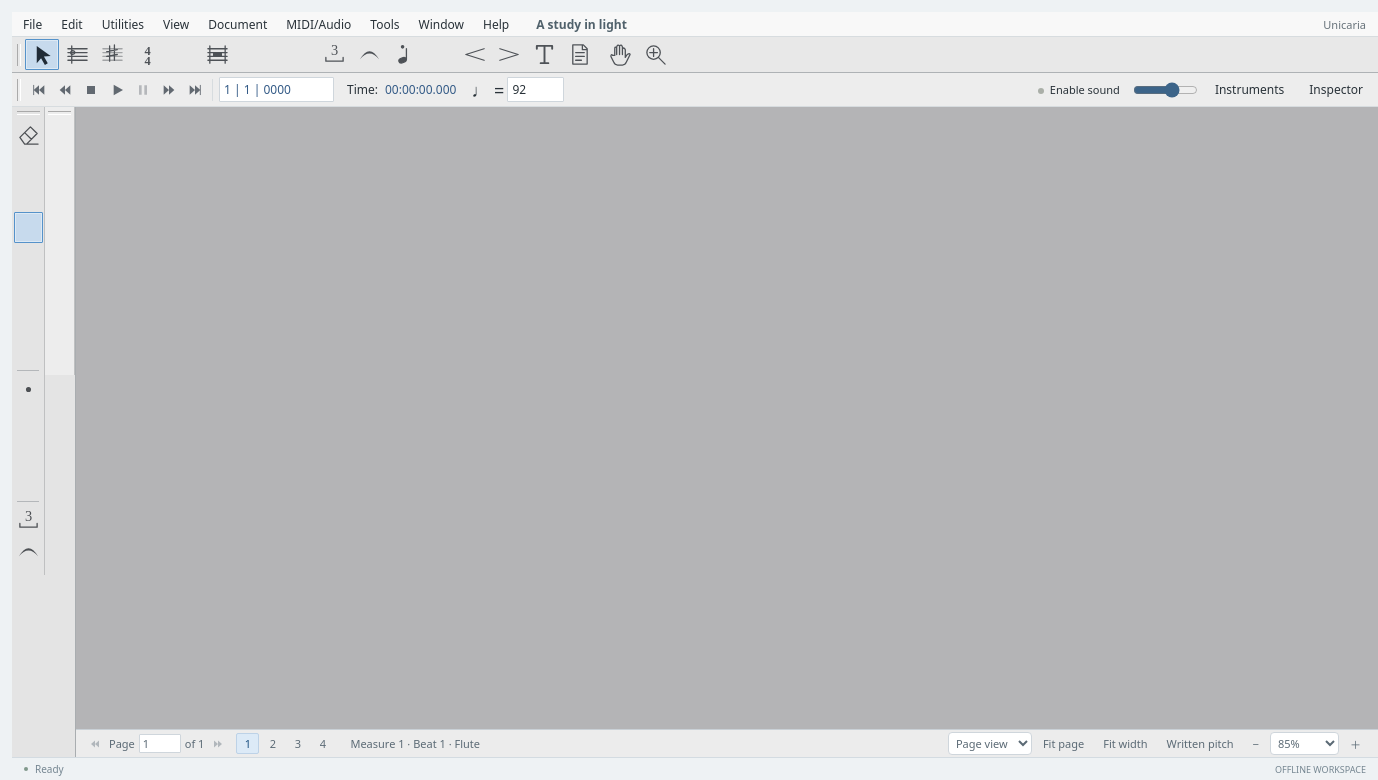
Test case: familiar score editing gestures › Speedy 0 exits and reopens the frame without adding a rest
This screenshot has width=1378, height=780.
Click the button named "Speedy Entry" at (293, 54), box [276,39,310,70]
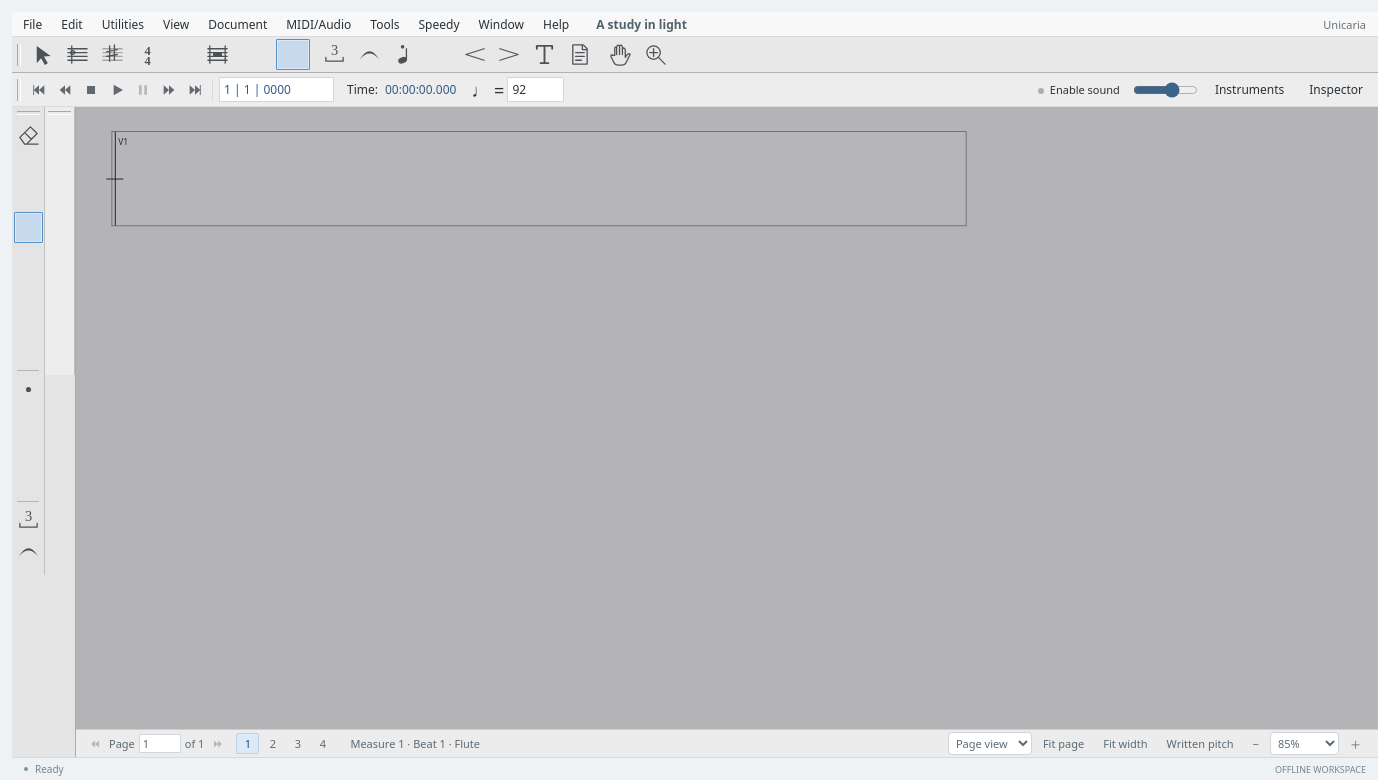
Press Digit0
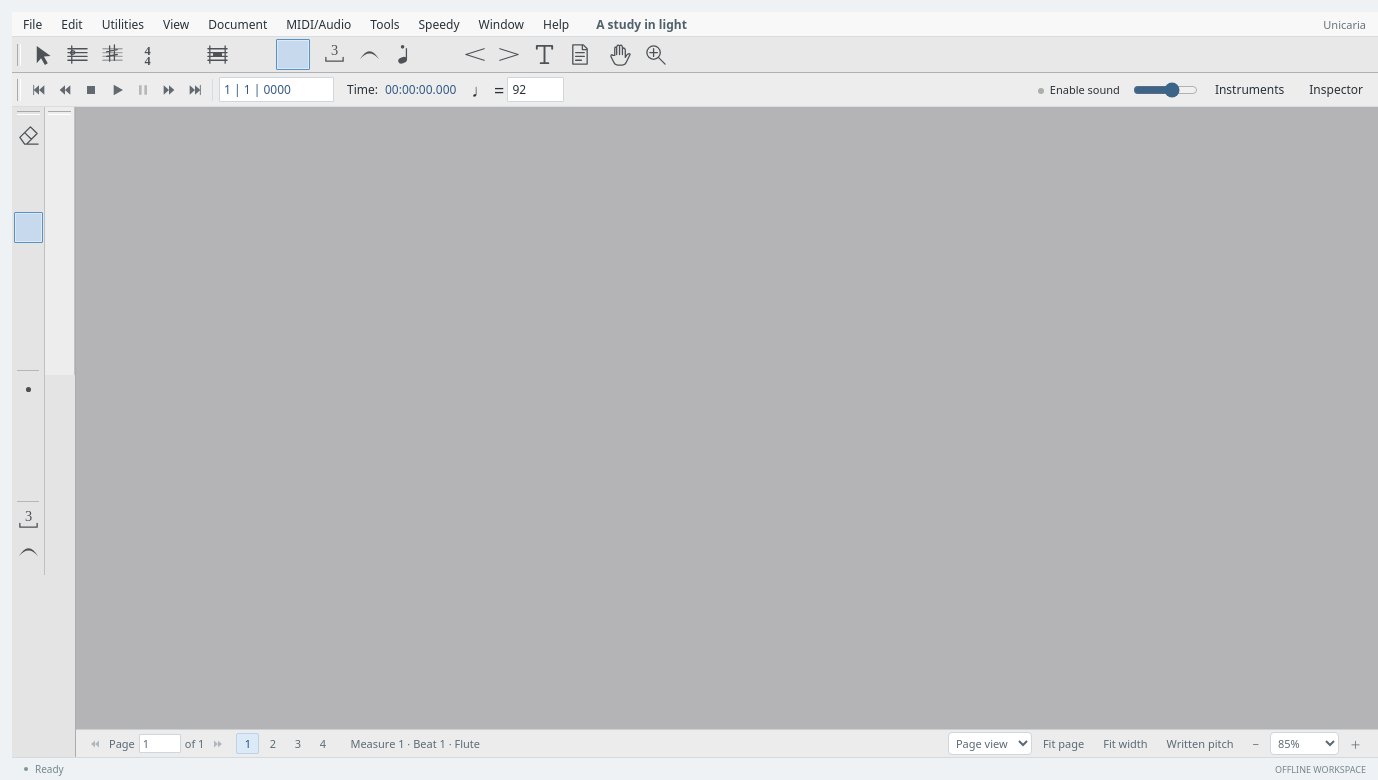
Result: the element with class "speedy-frame" is gone
Press Digit5
Press Digit0
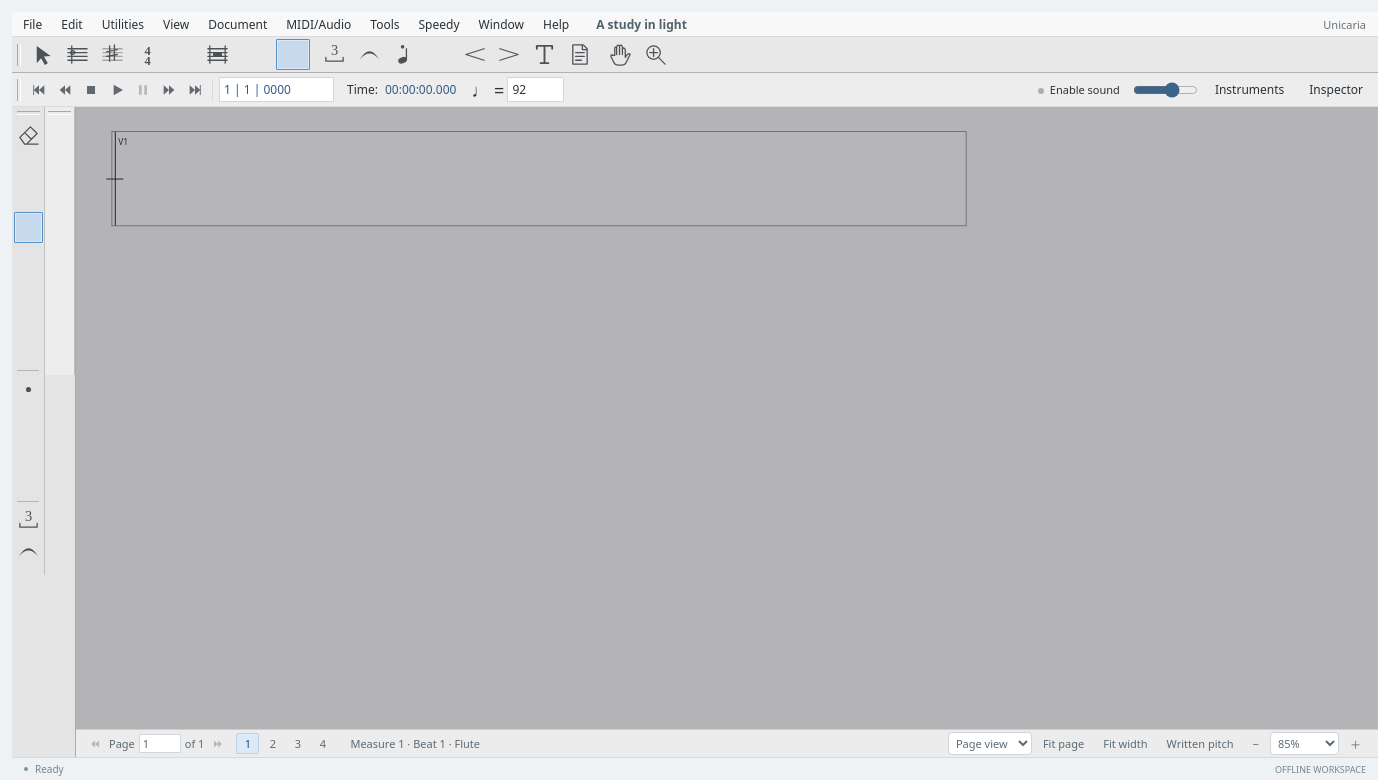
Result: the element with class "speedy-frame" is shown at [111,131,966,226]
